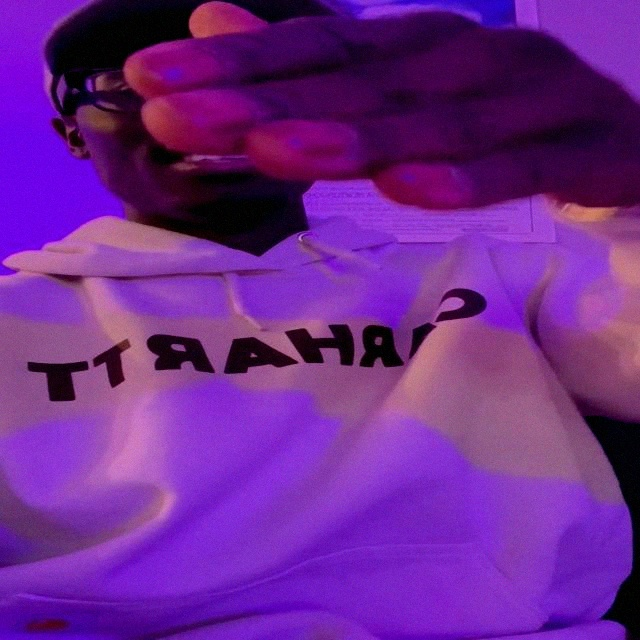Paper: (124, 0, 640, 216)
